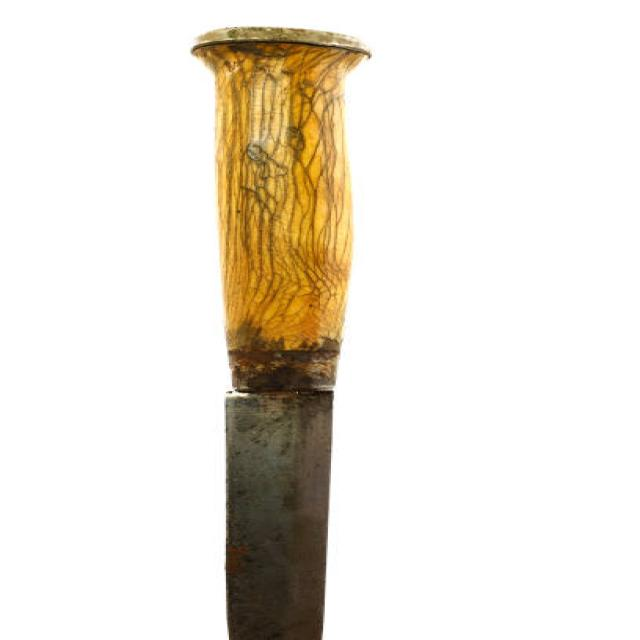knife: (175, 18, 396, 640)
